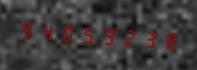eight: (157, 24, 176, 55)
five: (77, 18, 96, 49)
four: (37, 15, 56, 47)
nine: (97, 19, 116, 51), (17, 14, 36, 45)
three: (137, 22, 156, 54)
two: (117, 21, 136, 52)
zero: (57, 17, 76, 48)
